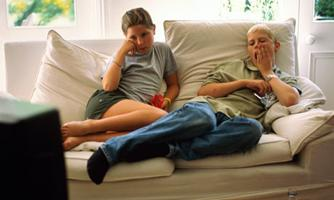person: (88, 24, 303, 184)
